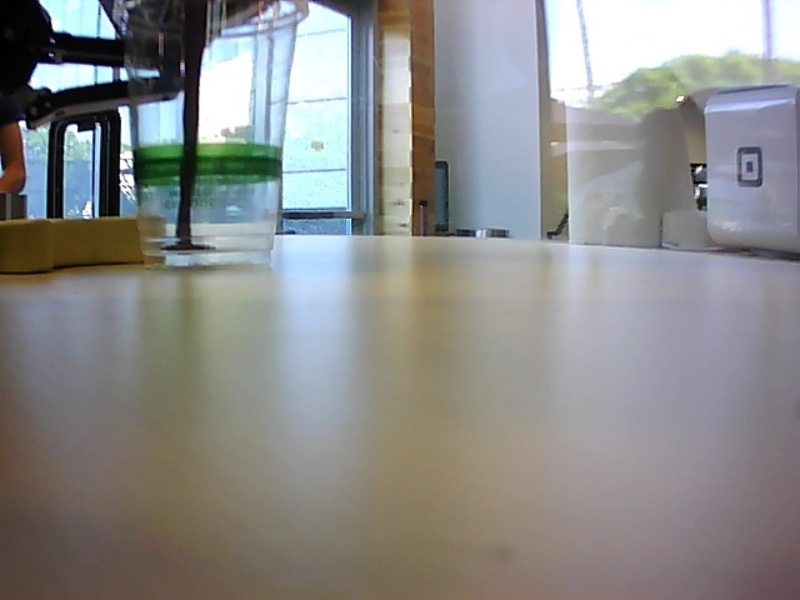cup: (108, 1, 312, 269)
